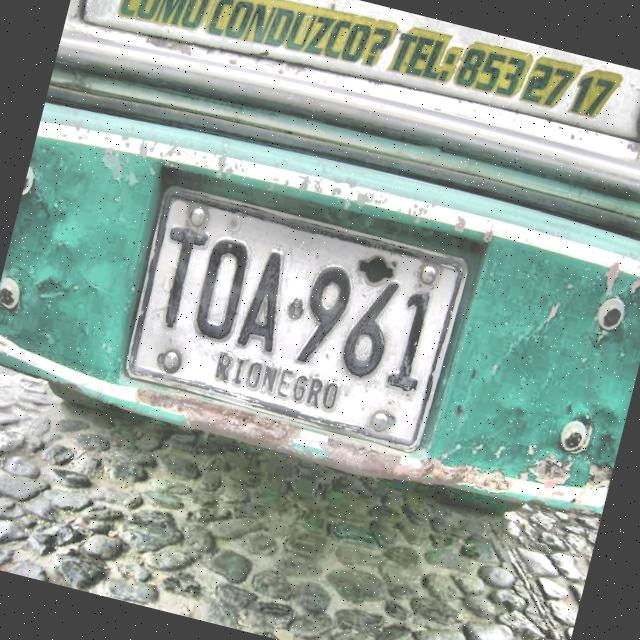1: (377, 282, 444, 400)
6: (337, 277, 406, 389)
9: (292, 258, 359, 372)
A: (229, 242, 300, 358)
O: (188, 232, 255, 344)
T: (146, 222, 212, 333)
